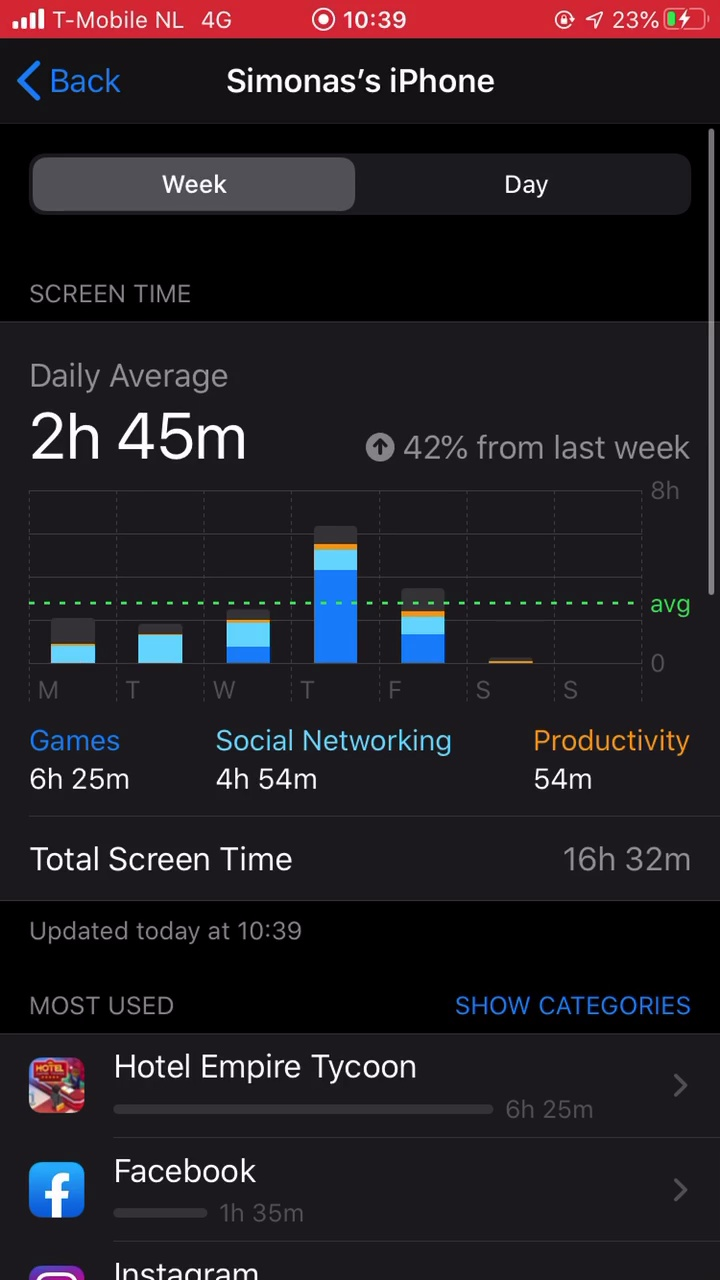use_over: (18, 727, 700, 888)
